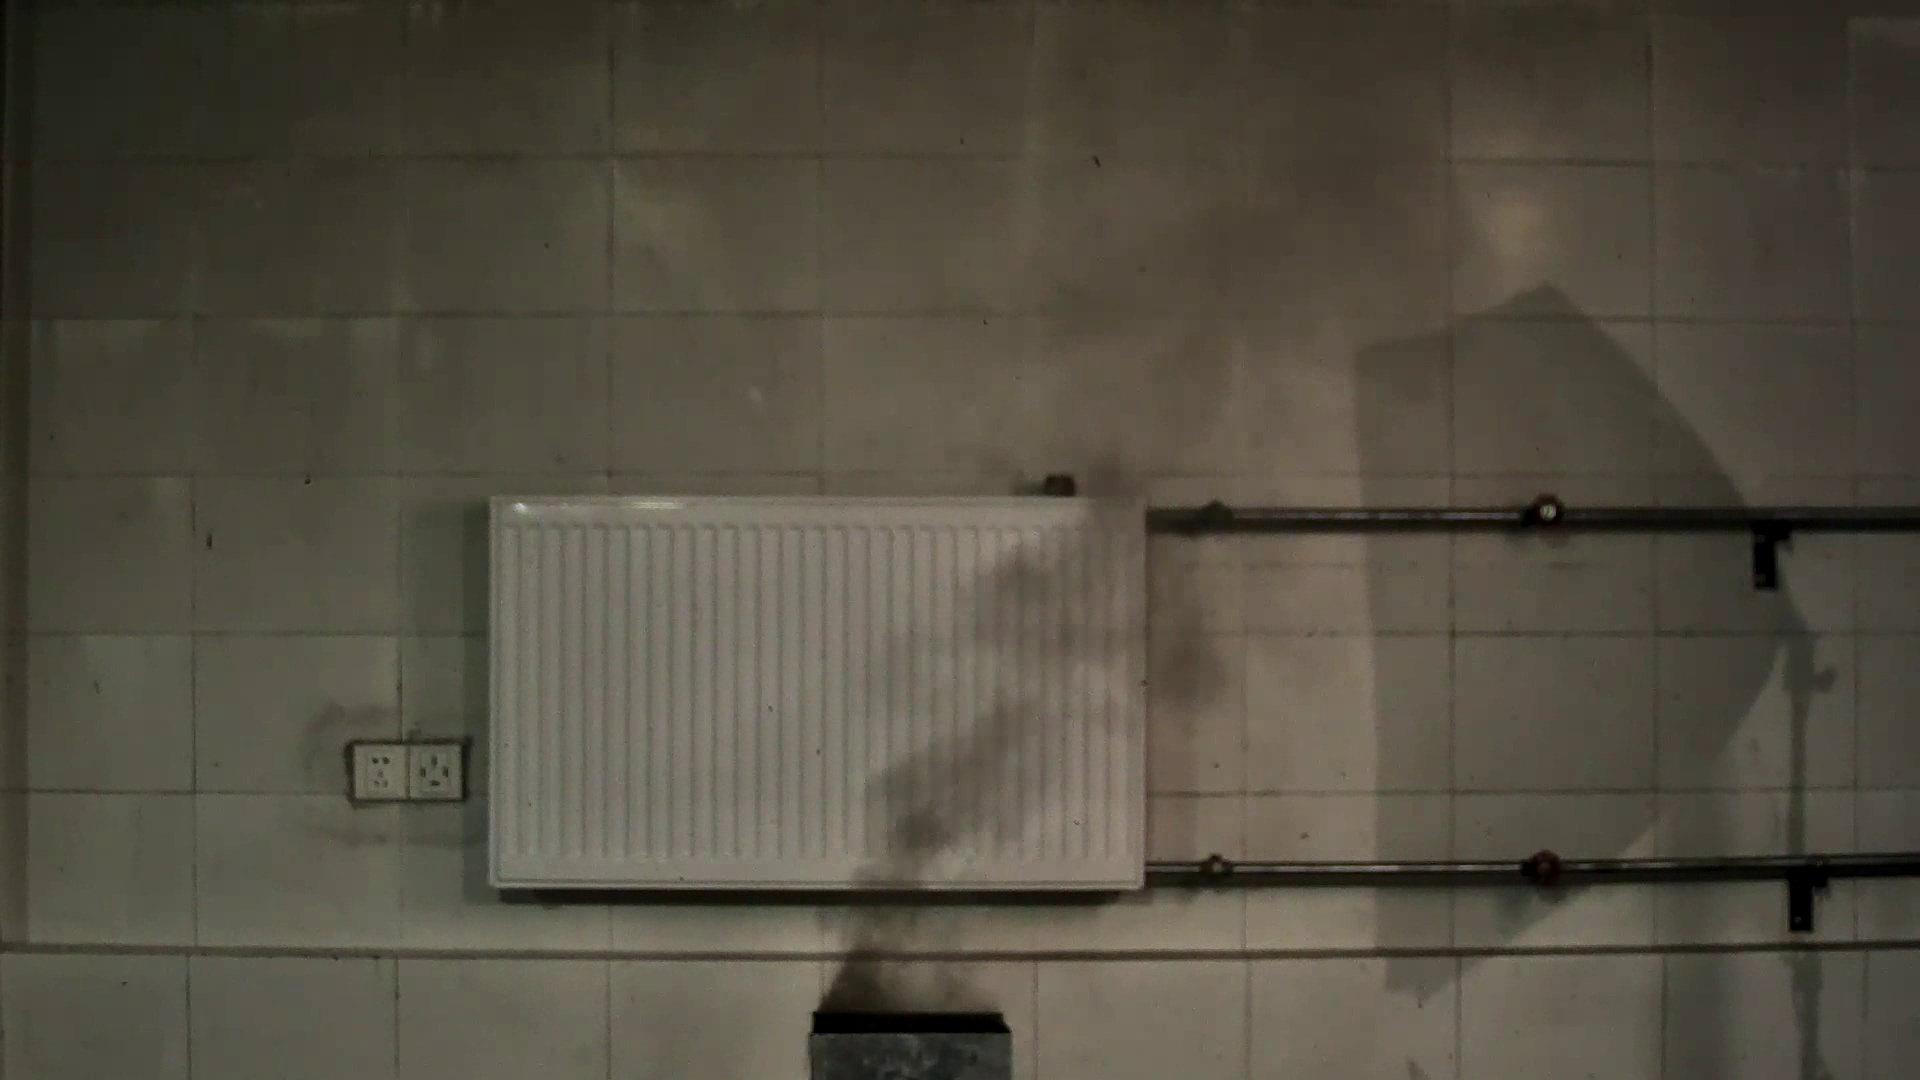smoke: (800, 141, 1427, 978)
